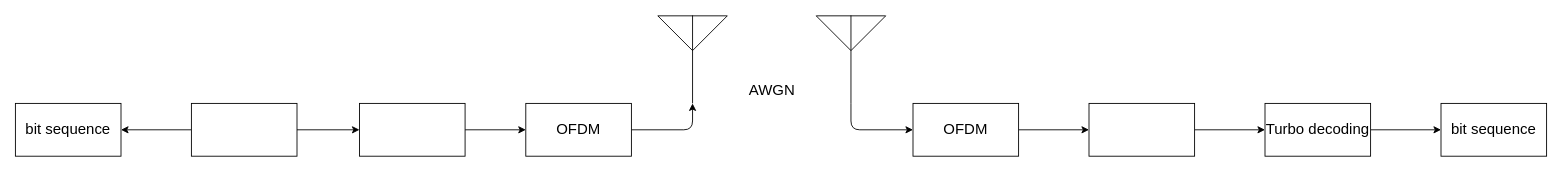
The diagram is 1562 pixels wide and 172 high, and some of its shapes have lost their labels. Here are the shapes that lost their labels. From the top down, the centre of each, then its label:
At pixel 244 129: "Turbo coding".
At pixel 412 129: "QAM 4/16/64".
At pixel 1141 129: "QAM Demodulation".
